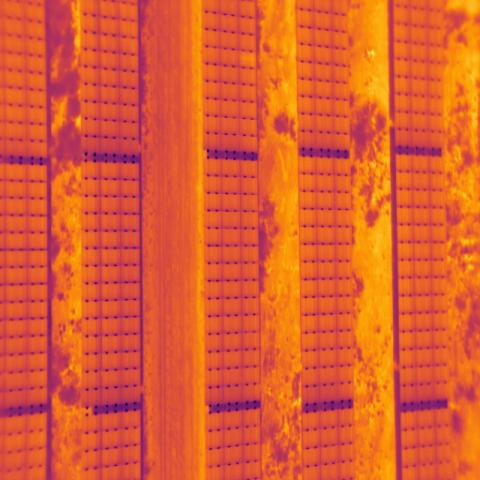fault: (238, 49, 256, 68)
